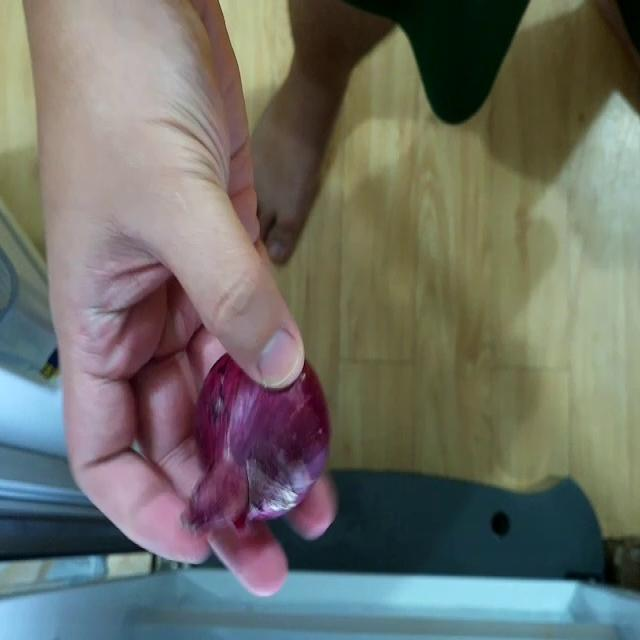onion: (192, 348, 336, 543)
